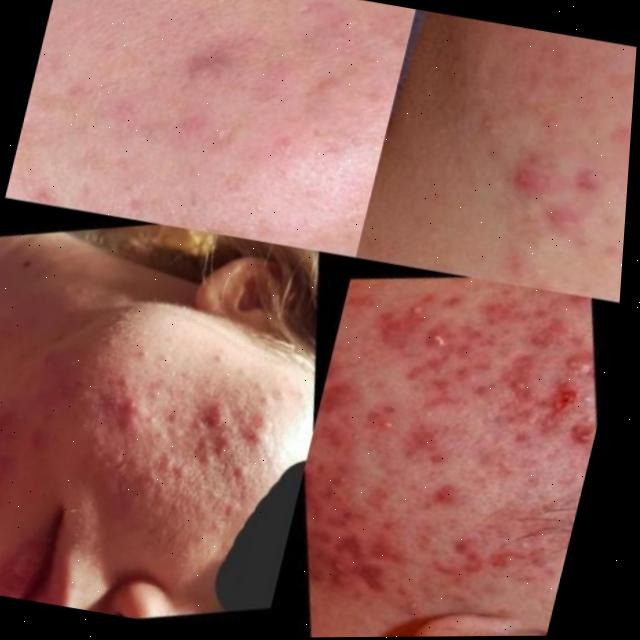Acne: (289, 286, 583, 600), (67, 0, 351, 215), (24, 359, 272, 538), (539, 92, 634, 269), (0, 420, 8, 501)
